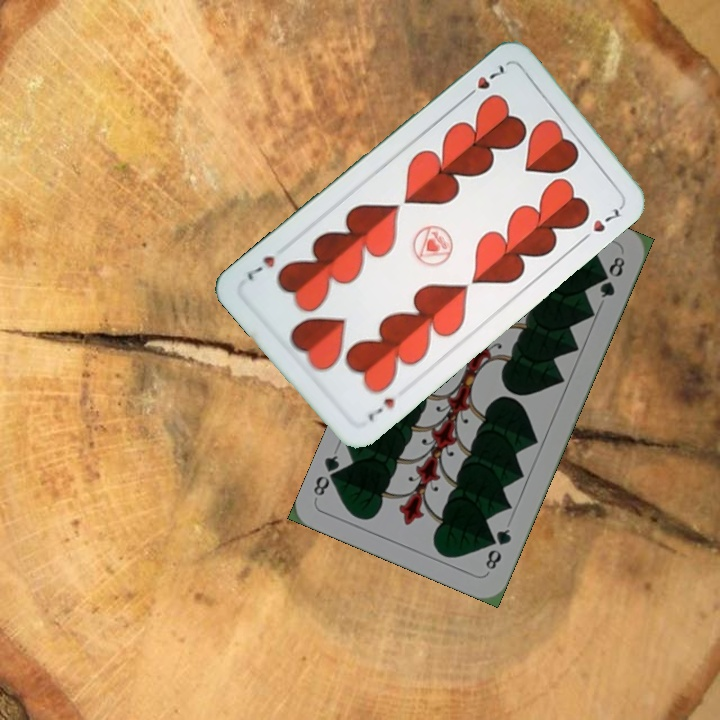G8: (481, 524, 514, 575)
H7: (460, 61, 508, 103), (363, 393, 398, 424)
